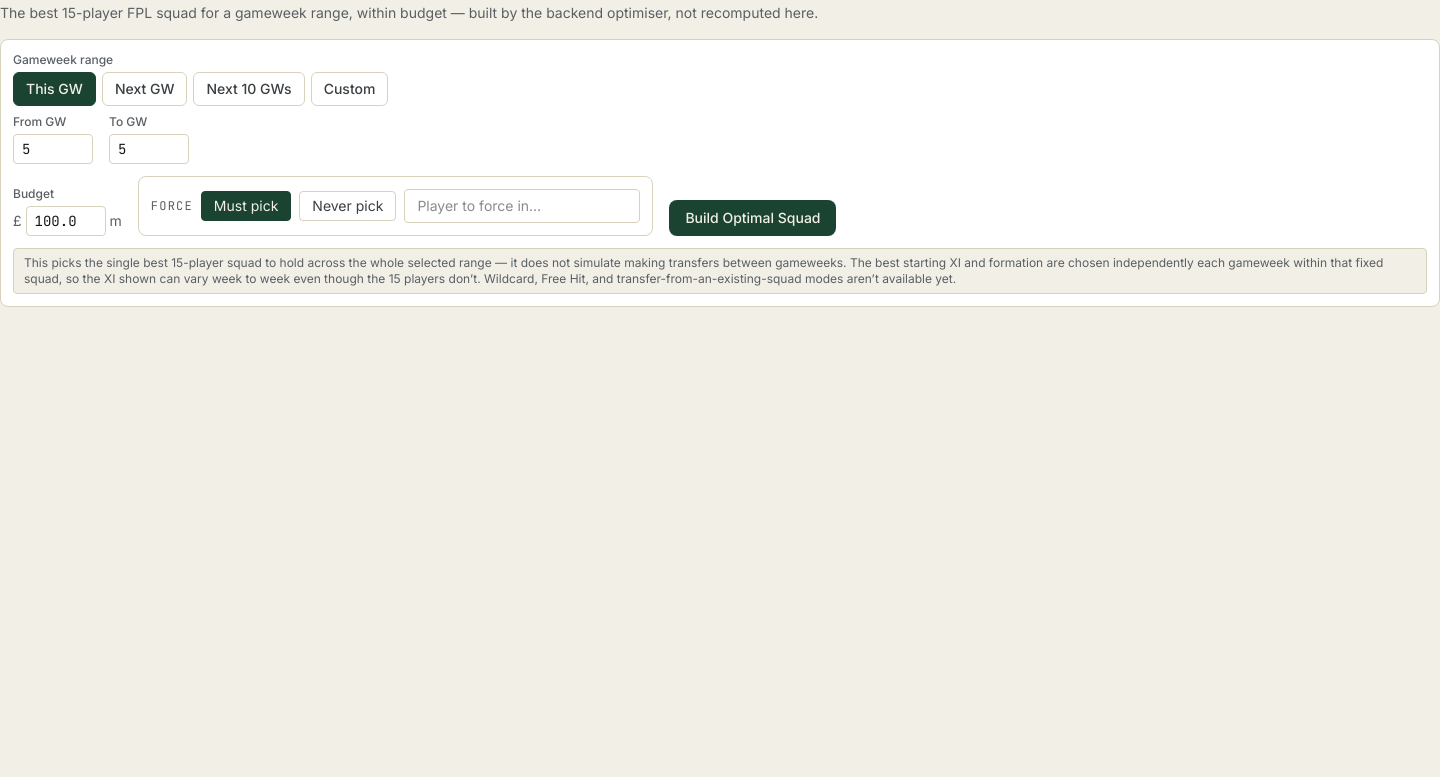
Test: OptimalSquadPage › builds a multi-GW request from a custom range and shows a per-week formation/captain table
Check: the button "This GW" is shown, box x1=13 y1=72 x2=96 y2=106
Click the button "Custom".
click(350, 89)  # box x1=311 y1=72 x2=388 y2=106
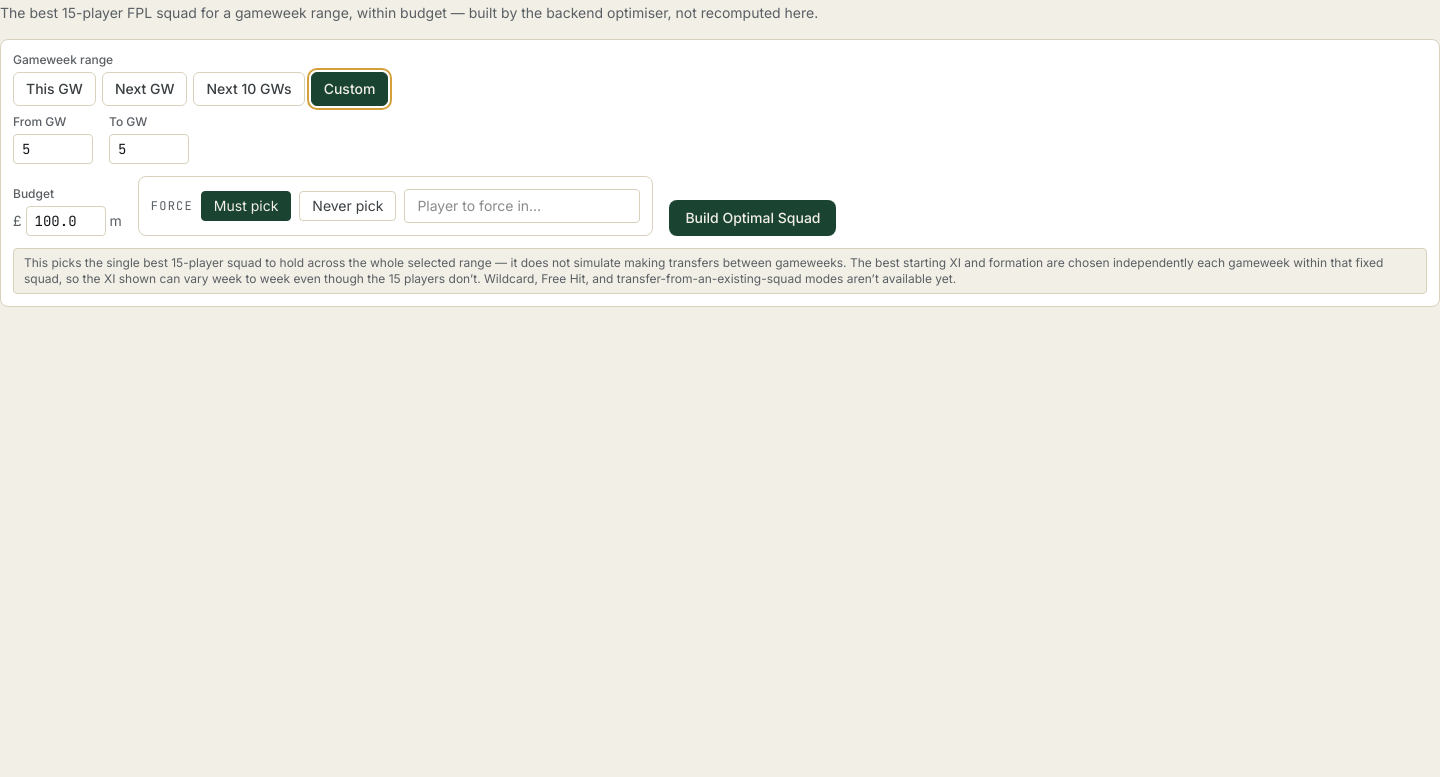
Replace the text in the number field labelled "To GW" with "7" at coordinates (149, 149), box x1=109 y1=134 x2=189 y2=164
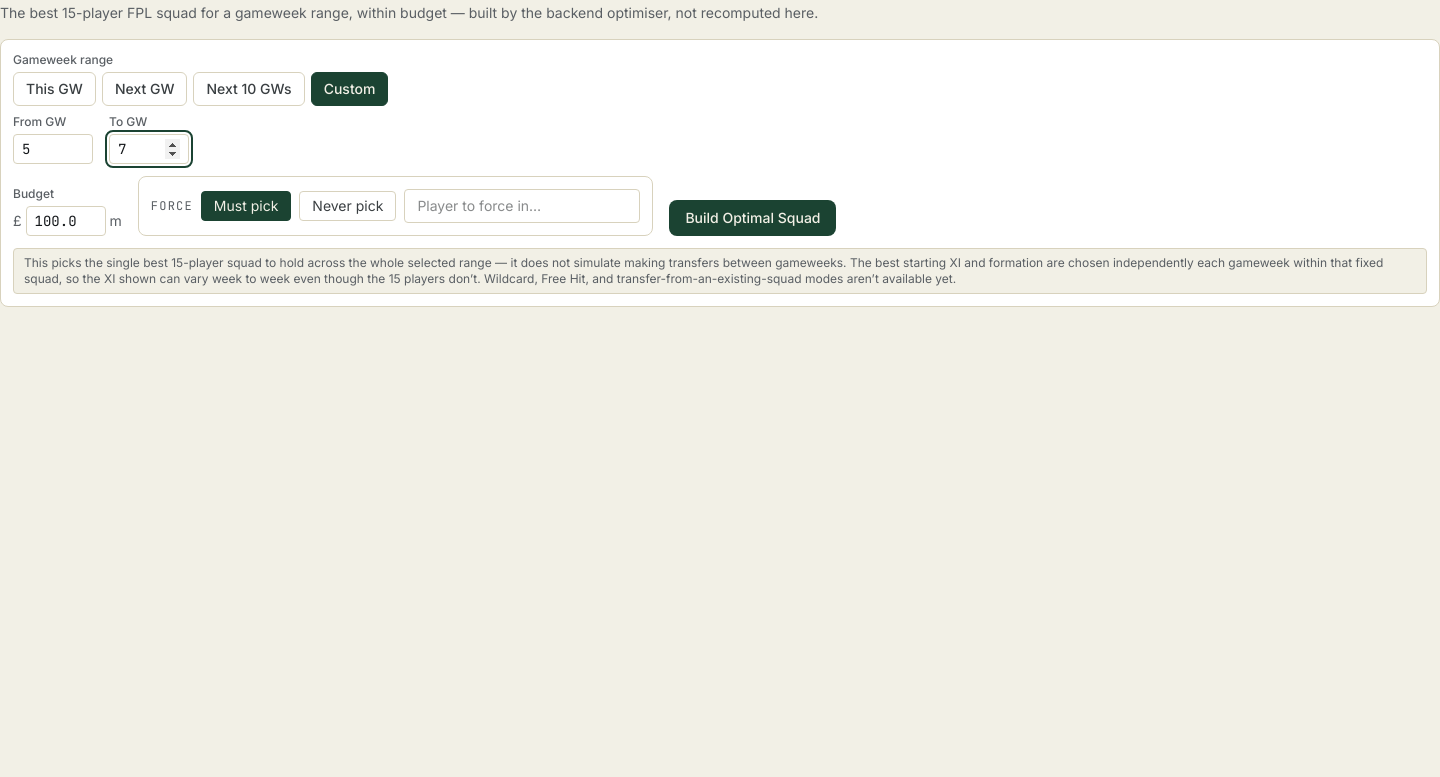
Click the button "Build Optimal Squad".
click(753, 218)  # box x1=669 y1=200 x2=836 y2=236
(page scrolled)
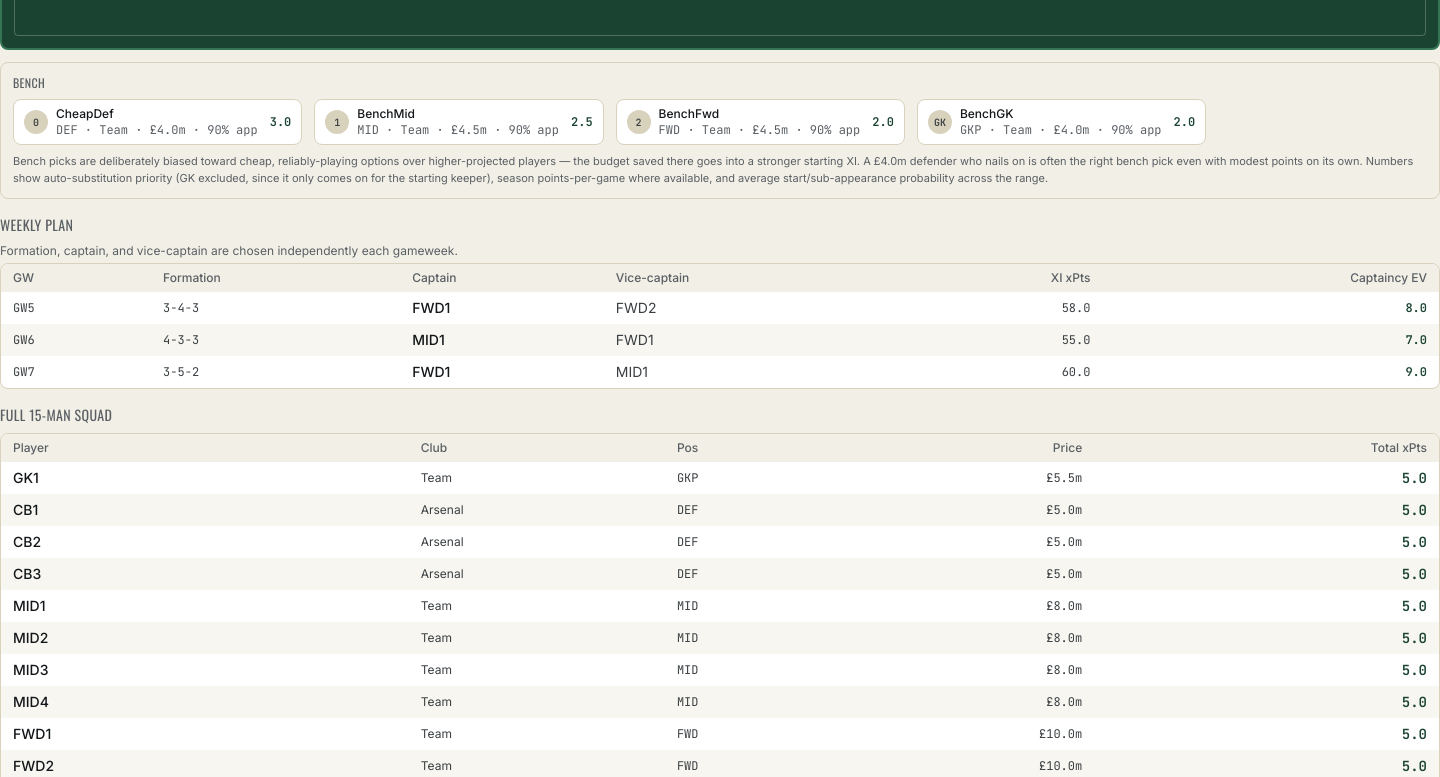
Check: the heading "Weekly plan" is shown, box x1=0 y1=214 x2=73 y2=235
Check: the text "4-3-3" is shown, box x1=155 y1=324 x2=404 y2=356
Check: the text "3-5-2" is shown, box x1=155 y1=356 x2=404 y2=388
